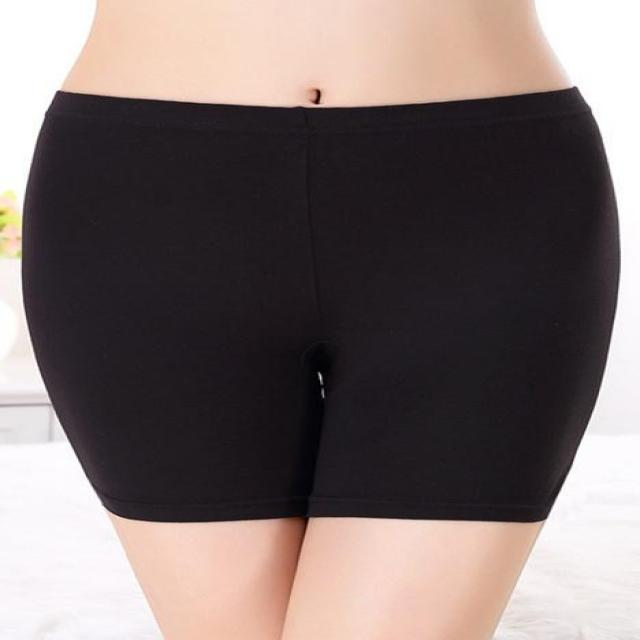shorts: (19, 67, 640, 616)
